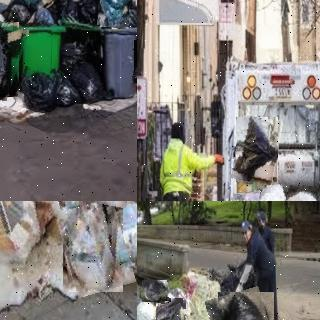Garbage: (56, 201, 129, 295), (0, 201, 53, 269), (234, 116, 281, 184), (107, 204, 137, 276), (211, 289, 280, 320), (67, 52, 107, 103), (0, 19, 24, 99), (18, 68, 58, 113), (98, 0, 131, 28), (253, 179, 287, 201), (154, 297, 184, 320), (141, 279, 168, 303), (284, 187, 318, 201), (232, 191, 260, 201)
